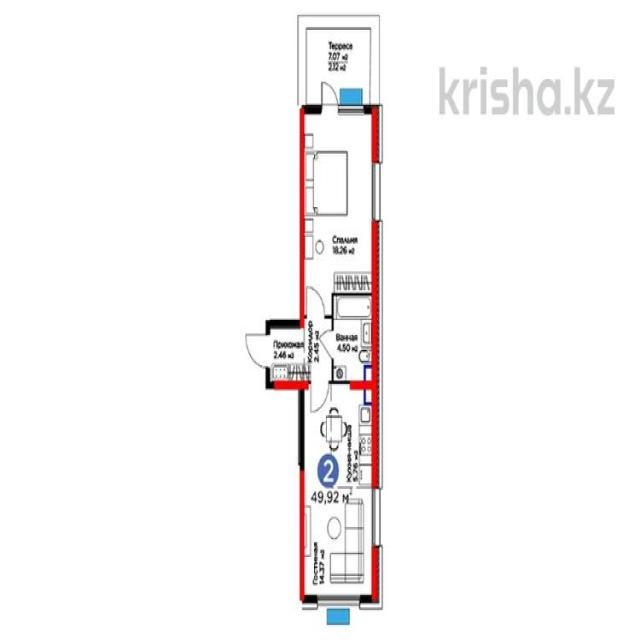balcony: (299, 17, 382, 111)
bathroom: (333, 292, 376, 383)
hallway: (267, 318, 334, 384)
living_room: (298, 111, 380, 291)
studio: (302, 385, 377, 604)
